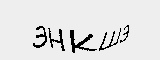К: (68, 27, 94, 57)
Н: (46, 27, 66, 51)
Ш: (99, 27, 121, 51)
Э: (31, 22, 47, 50), (119, 22, 134, 46)
